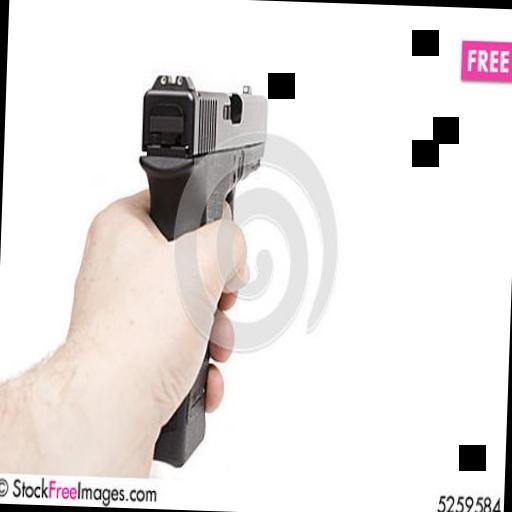Handgun: (124, 64, 268, 471)
